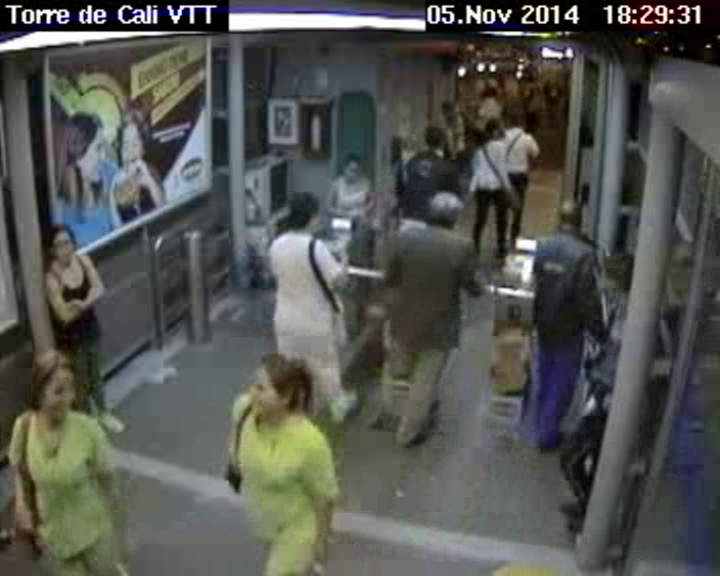person: (236, 346, 320, 431), (22, 342, 89, 420), (282, 179, 333, 247), (45, 217, 92, 273), (602, 258, 647, 306), (427, 188, 464, 240), (553, 201, 585, 233), (420, 122, 451, 154), (334, 147, 364, 179), (481, 115, 508, 142), (509, 111, 526, 129), (482, 87, 499, 104)
